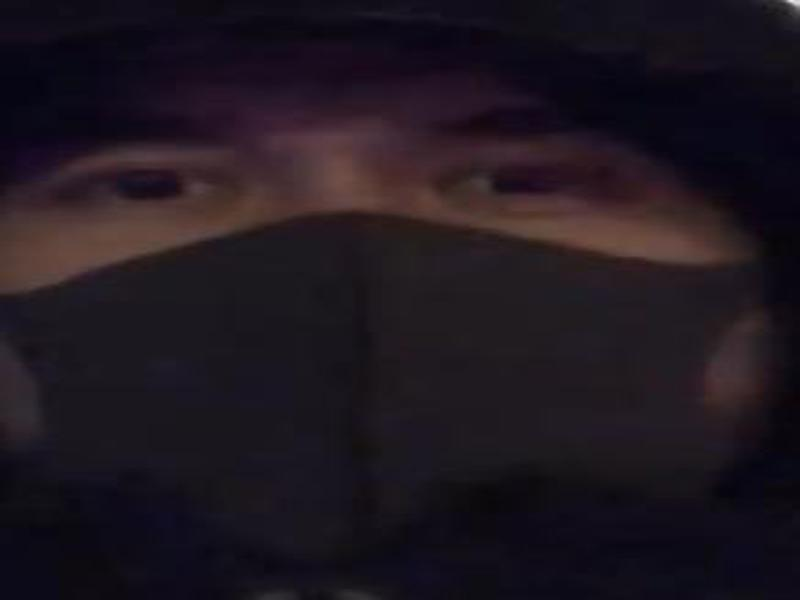with_mask: (1, 30, 789, 600)
